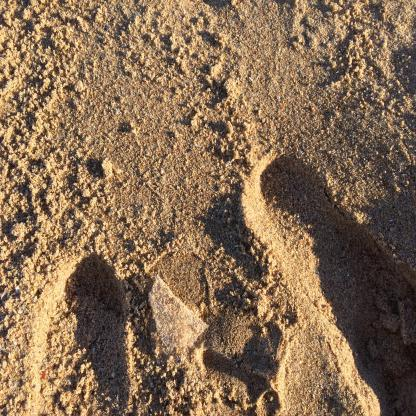plastik: (151, 277, 210, 355)
